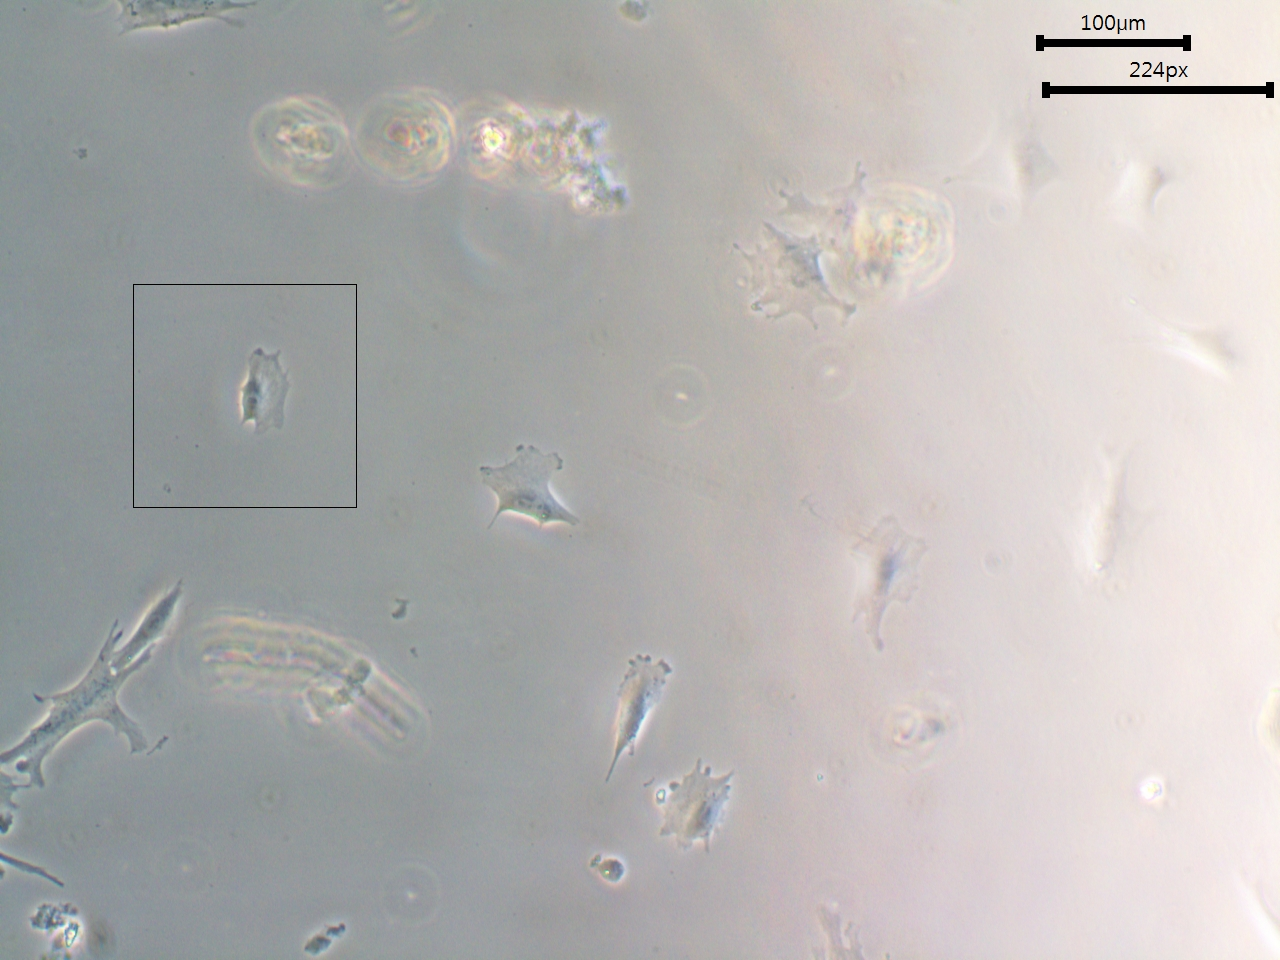medium-polygonal: (606, 649, 667, 798), (108, 573, 191, 675)
small-polygonal: (475, 440, 592, 539)
small-spread: (656, 762, 741, 849), (230, 344, 297, 442)
